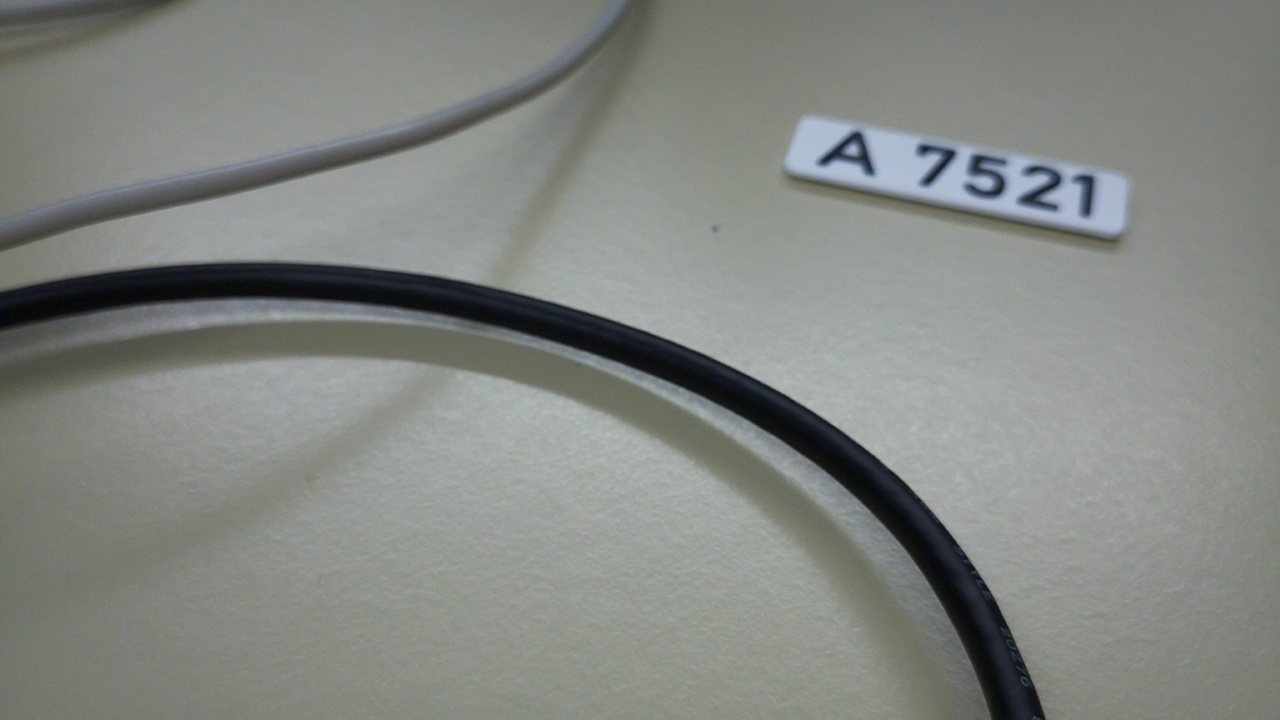license_plate: (782, 111, 1130, 243)
